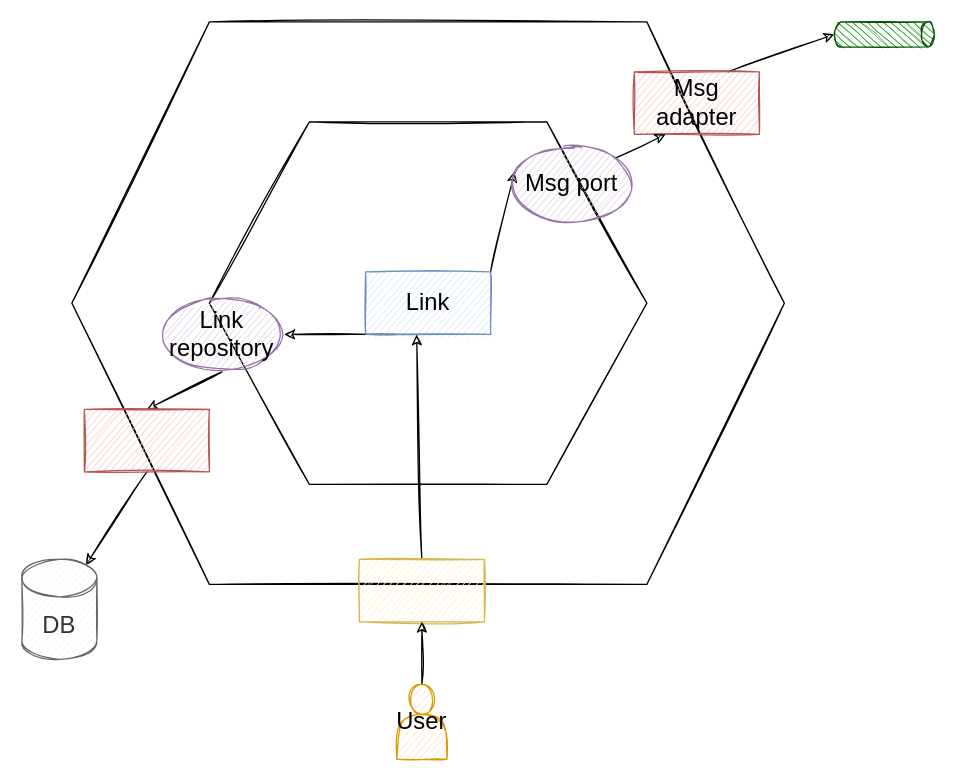
Image size: 956x781. Some labels were removed from this diagram. The box of each missing label's shape, as (x1, y1, x2, y2) in pixels:
DB adapter: (83, 408, 209, 472)
Msg queue: (833, 21, 934, 47)
REST: (358, 558, 484, 622)
